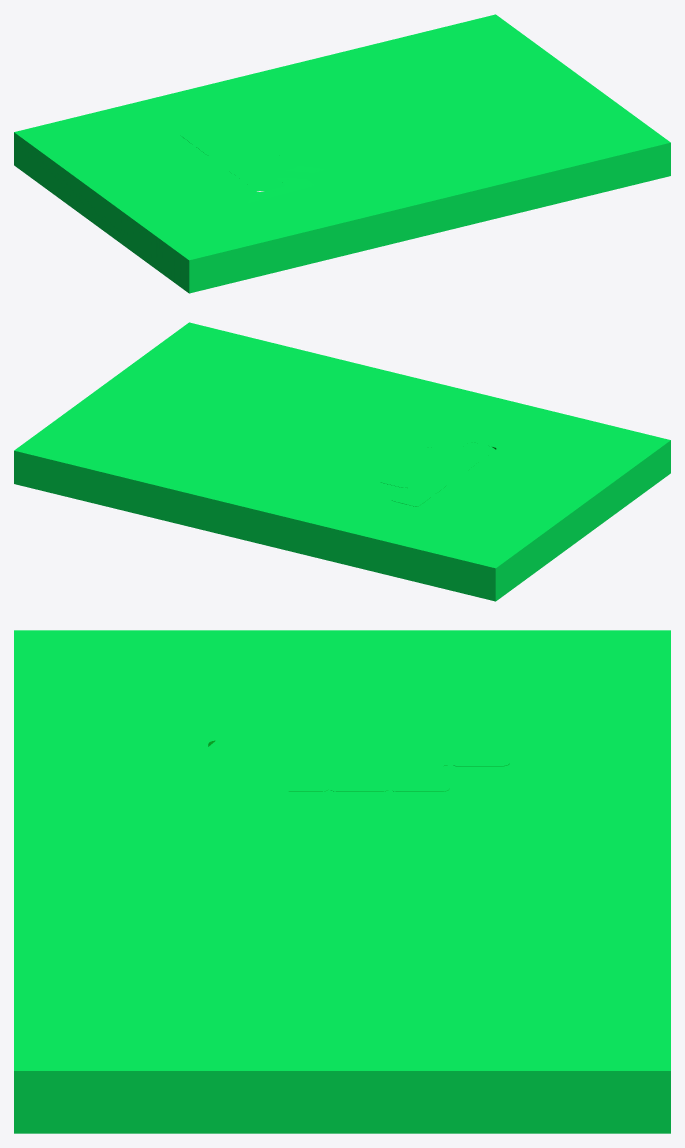
Rendered from level7.fbx.
3 renders of one model, top to bottom at view 1: azimuth 30°, elevation 25°; view 2: azimuth 150°, elevation 25°; view 3: azimuth 270°, elevation 25°, orthographic. The views are drawn at different scales.
Parts seen in each view (by area): view 1: Ground.010; view 2: Ground.010; view 3: Ground.010.
Part boxes in pixels (bbox=[...]): Ground.010: bbox=[14, 14, 670, 293]; Ground.010: bbox=[14, 322, 670, 601]; Ground.010: bbox=[14, 630, 670, 1133].
Size of the model in its own units: 7326 by 487 by 4613.
